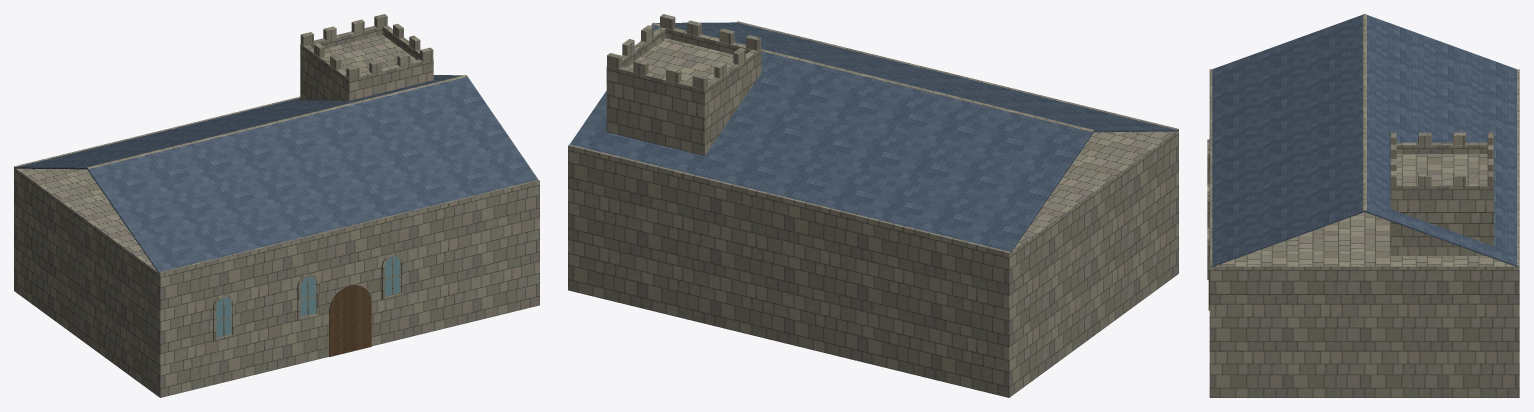
Rendered from Furn_Training_Hall.fbx.
3 renders of one model, left to right at view 1: azimuth 30°, elevation 25°; view 2: azimuth 150°, elevation 25°; view 3: azimuth 270°, elevation 25°, orthographic. The views are drawn at different scales.
Visible parts, largest first — view 1: Furn_Training_Hall_Mesh; view 2: Furn_Training_Hall_Mesh; view 3: Furn_Training_Hall_Mesh.
Part boxes in pixels (x1=…): Furn_Training_Hall_Mesh: x1=14, y1=14, x2=539, y2=397; Furn_Training_Hall_Mesh: x1=568, y1=14, x2=1178, y2=397; Furn_Training_Hall_Mesh: x1=1207, y1=14, x2=1519, y2=397.
Bounding box in the file's own units: 18 × 9 × 12.1.
